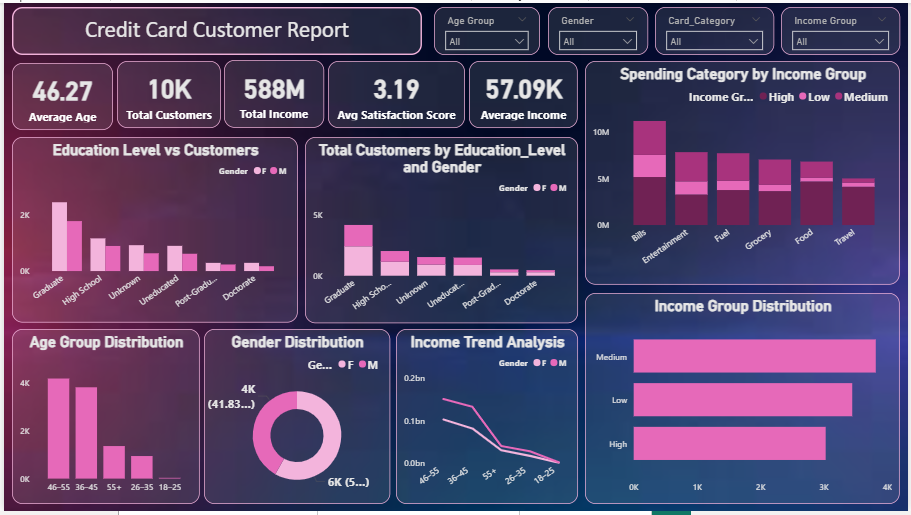

The dashboard page shown, as its layout file describes it:
{"tool":"powerbi","page":{"name":" Credit Card Customer Report","canvas":[1280,720],"ordinal":0},"visuals":[{"type":"card","fields":{"Values":["Customer.Total Customers"]},"box":[160,82.2,147.4,95],"z":0},{"type":"card","fields":{"Values":["Customer.Average Age"]},"box":[11.3,85,143.1,95],"z":1000},{"type":"card","fields":{"Values":["Customer.Average Income"]},"box":[659.1,82.2,154.5,95],"z":2000},{"type":"card","fields":{"Values":["Customer.Avg Satisfaction Score"]},"box":[459,82.2,194.2,95],"z":3000},{"type":"donutChart","title":"Gender Distribution","fields":{"Category":["Customer.Gender"],"Y":["Customer.Total Customers"]},"box":[284,462,263.6,248],"z":4000},{"type":"clusteredColumnChart","title":"Age Group Distribution","fields":{"Category":["Customer.Age Group"],"Y":["Customer.Total Customers"]},"box":[11.3,462,266.5,248],"z":5000},{"type":"barChart","title":"Income Group Distribution","fields":{"Category":["Customer.Income Group"],"Y":["Customer.Total Customers"]},"box":[823.5,411,446.5,299.1],"z":6000},{"type":"clusteredColumnChart","title":"Education Level vs Customers","fields":{"Category":["Customer.Education_Level"],"Y":["Customer.Total Customers"],"Series":["Customer.Gender"]},"box":[11.3,189.9,405.4,263],"z":7000},{"type":"slicer","fields":{"Values":["Customer.Gender"]},"box":[771,5.7,141.7,68],"z":8000},{"type":"slicer","fields":{"Values":["Customer.Income Group"]},"box":[1101.3,5.7,168.7,68],"z":9000},{"type":"textbox","box":[11.3,5.7,581.1,68],"z":10000},{"type":"columnChart","fields":{"Category":["Customer.Education_Level"],"Y":["Customer.Total Customers"],"Series":["Customer.Gender"]},"box":[426.6,189.9,386.9,263.6],"z":11000},{"type":"lineChart","title":"Income Trend Analysis","fields":{"Category":["Customer.Age Group"],"Series":["Customer.Gender"],"Y":["Customer.Total Income"]},"box":[555.6,462,258,248],"z":12000},{"type":"columnChart","title":"Spending Category by Income Group","fields":{"Y":["Sum(Transaction.Total_Trans_Amt)"],"Category":["Transaction.Exp Type"],"Series":["Customer.Income Group"]},"box":[823.5,82.2,446.5,317.5],"z":13000},{"type":"card","fields":{"Values":["Customer.Total Income"]},"box":[311.8,80.8,141.7,96.4],"z":14000},{"type":"slicer","fields":{"Values":["Transaction.Card_Category"]},"box":[922.7,5.7,168.7,68],"z":15000},{"type":"slicer","fields":{"Values":["Customer.Age Group"]},"box":[610,5.7,150.2,68],"z":16000}]}

Visuals, with their boxes in screenshot pixels (x1, y1, x2, y2), scaled from the page's 1280x720 canvas onto the 911x515 screenshot:
card - Customer.Total Customers: 114:59:219:127
card - Customer.Average Age: 8:61:110:129
card - Customer.Average Income: 469:59:579:127
card - Customer.Avg Satisfaction Score: 327:59:465:127
"Gender Distribution" donutChart: 202:330:390:508
"Age Group Distribution" clusteredColumnChart: 8:330:198:508
"Income Group Distribution" barChart: 586:294:904:508
"Education Level vs Customers" clusteredColumnChart: 8:136:297:324
slicer - Customer.Gender: 549:4:650:53
slicer - Customer.Income Group: 784:4:904:53
textbox: 8:4:422:53
columnChart - Customer.Education_Level x Customer.Total Customers: 304:136:579:324
"Income Trend Analysis" lineChart: 395:330:579:508
"Spending Category by Income Group" columnChart: 586:59:904:286
card - Customer.Total Income: 222:58:323:127
slicer - Transaction.Card_Category: 657:4:777:53
slicer - Customer.Age Group: 434:4:541:53
